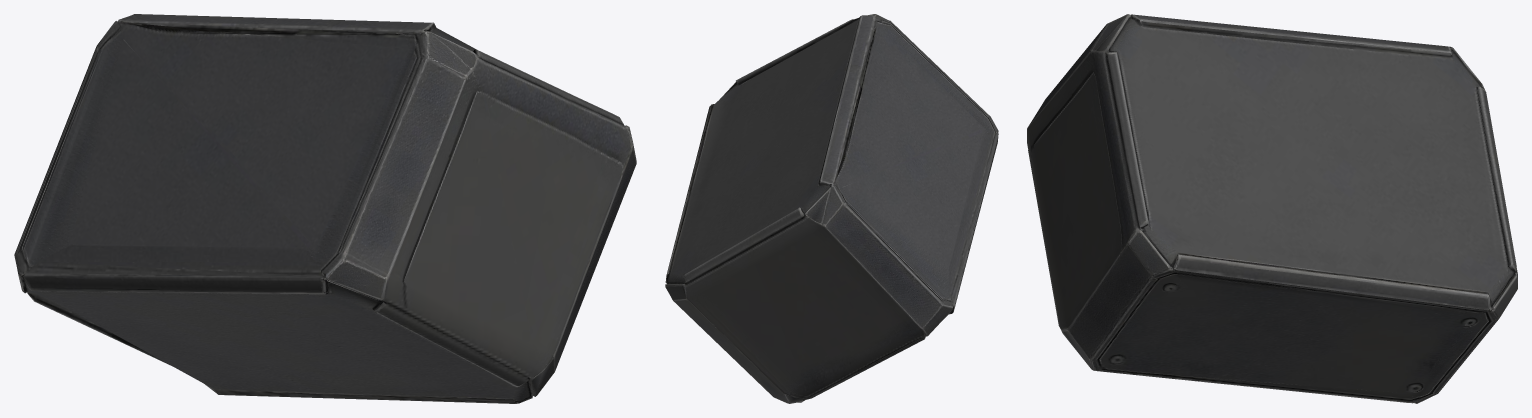
The model's file is cold-iron-v2-panel-c-ribbed.glb.
The picture shows the model from 3 angles, left to right: view 1: azimuth 30°, elevation 25°; view 2: azimuth 150°, elevation 25°; view 3: azimuth 270°, elevation 25°; orthographic projection. The views are drawn at different scales.
Visible parts, largest first — view 1: tripo_node_7962fd18-9f55-4cb0-868e-1081ee6857de; view 2: tripo_node_7962fd18-9f55-4cb0-868e-1081ee6857de; view 3: tripo_node_7962fd18-9f55-4cb0-868e-1081ee6857de.
Part boxes in pixels (x1,y1,x2,y2): tripo_node_7962fd18-9f55-4cb0-868e-1081ee6857de: (14,14,636,403); tripo_node_7962fd18-9f55-4cb0-868e-1081ee6857de: (665,14,998,403); tripo_node_7962fd18-9f55-4cb0-868e-1081ee6857de: (1027,14,1517,403).
Bounding box in the file's own units: 0.9941 × 0.9043 × 0.998.
1 material, 1 textured.
